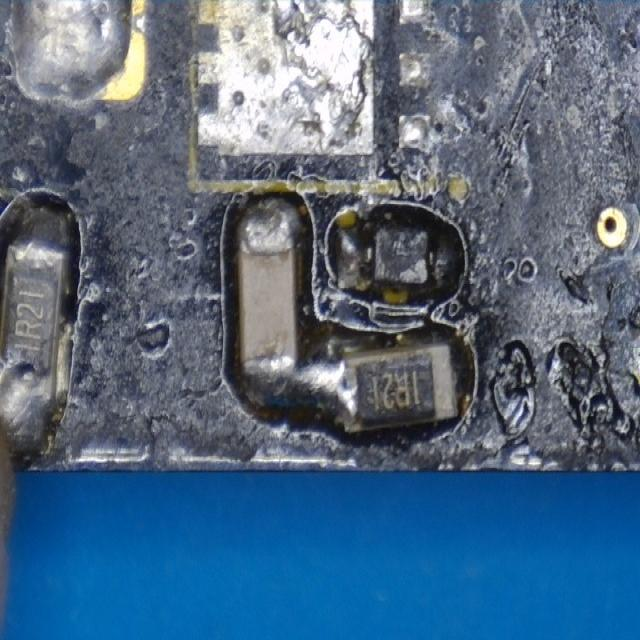Incorrect_installation: (322, 332, 463, 433)
Short_circuit: (239, 334, 355, 424)
